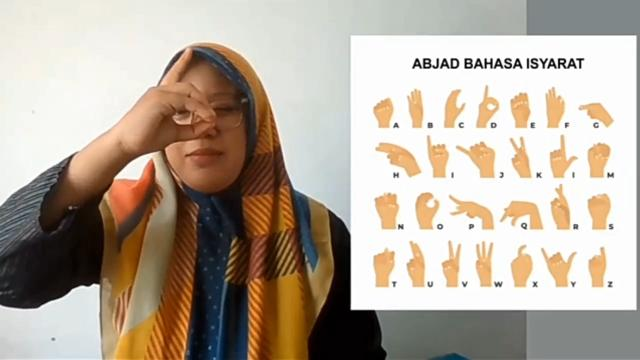D: (116, 45, 217, 163)
